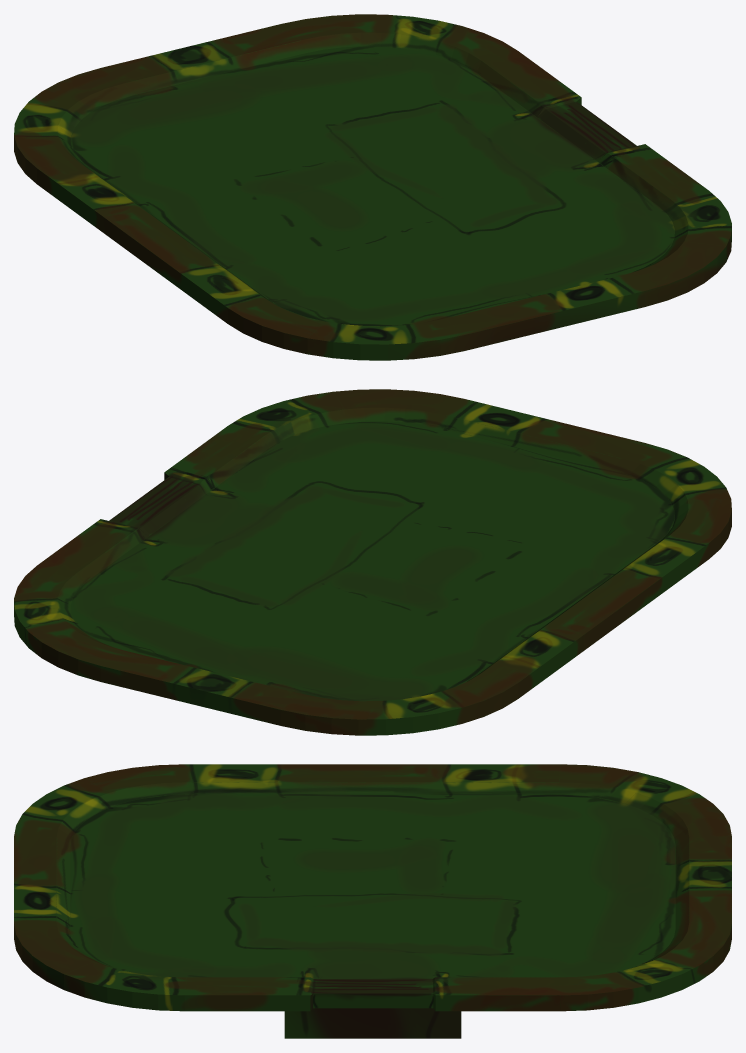
File: table.dae
3 views of the same model, one above another, from view 1: azimuth 30°, elevation 25°; view 2: azimuth 150°, elevation 25°; view 3: azimuth 270°, elevation 25° (orthographic).
Visible parts, largest first — view 1: table; view 2: table; view 3: table.
Part boxes in pixels (x1,y1,x2,y2): table: (14, 14, 731, 360); table: (14, 389, 731, 735); table: (14, 764, 731, 1038).
Bounding box in the file's own units: 6.2 × 8.14 × 1.46.
Materials: 1 (1 with a texture image).
